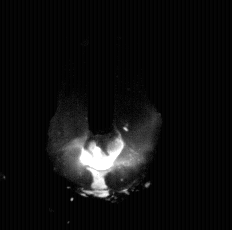arame: (89, 0, 116, 154)
poca: (49, 0, 156, 230)
